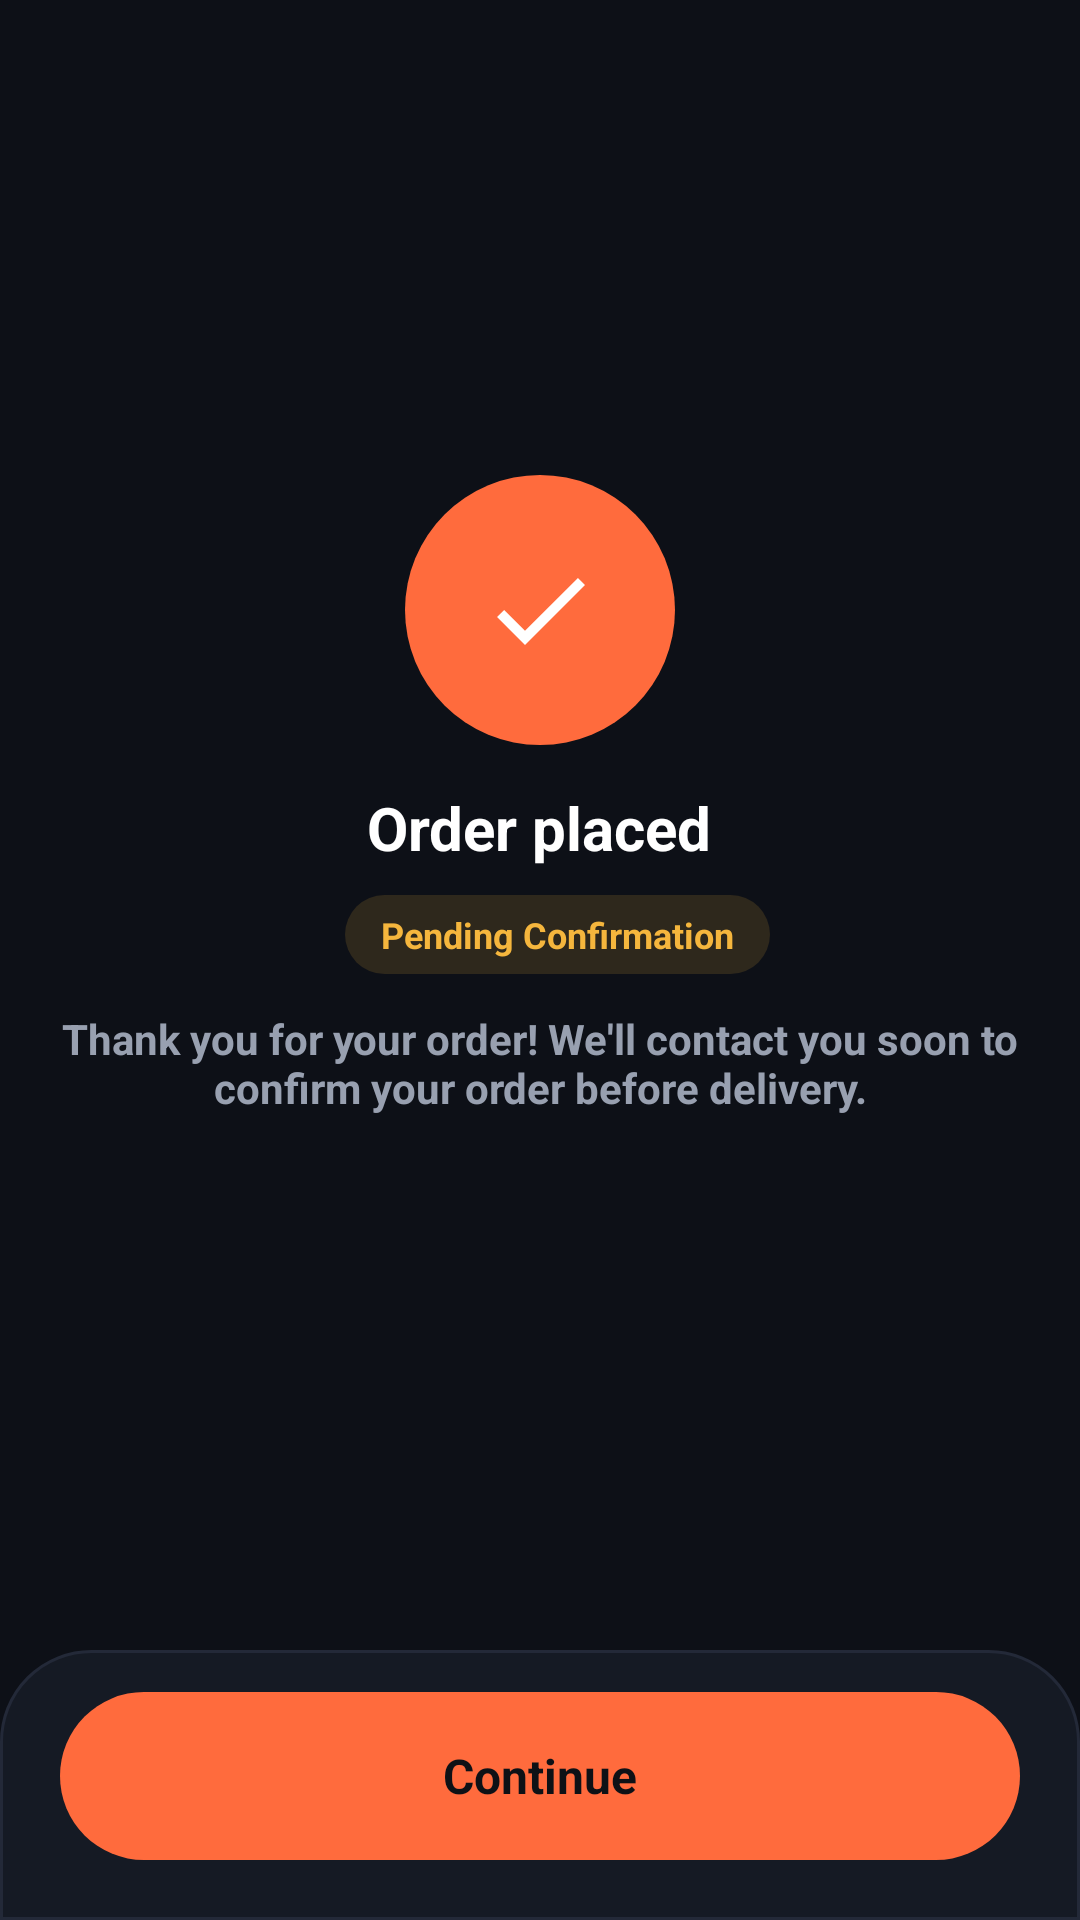

Icons on this 1080x1920 Android screen, each with the point to tap as (x,y):
check: (541,611)
